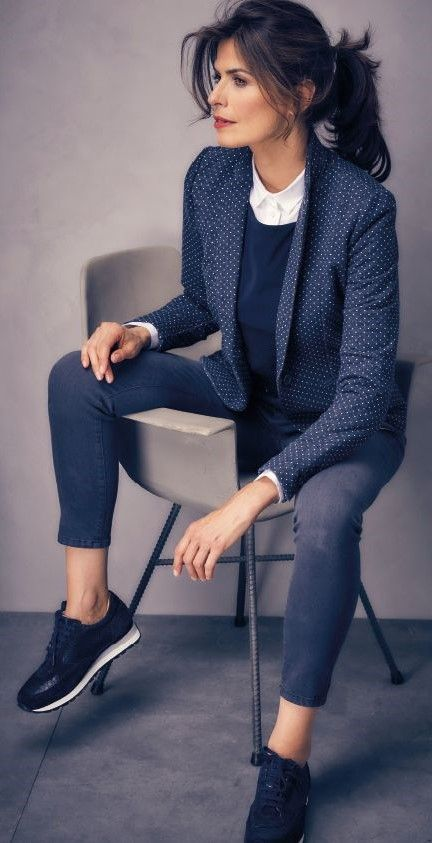F_W_suit jacket: (125, 145, 403, 524)
